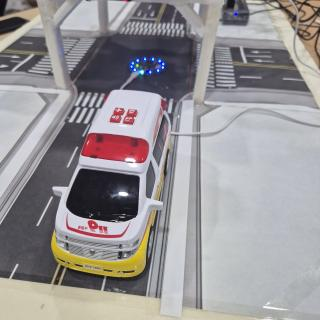Ambulance: (51, 90, 171, 277)
